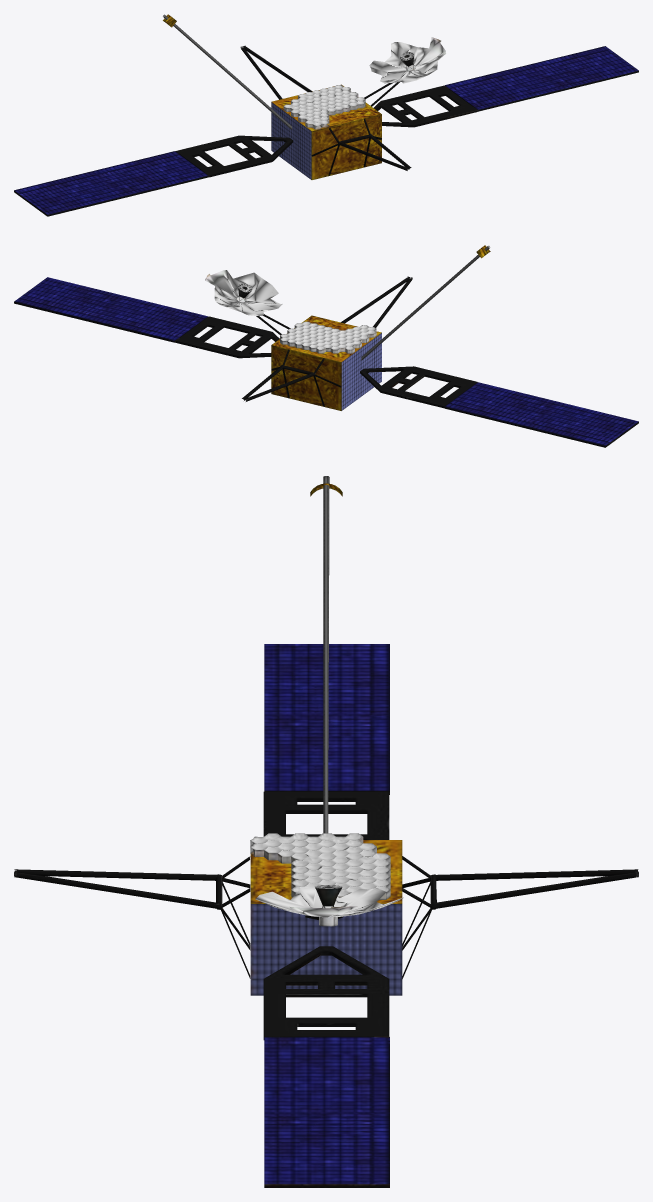
File: satellite_tdrs_lod.glb
3 views of the same model, one above another, from view 1: azimuth 30°, elevation 25°; view 2: azimuth 150°, elevation 25°; view 3: azimuth 270°, elevation 25° (orthographic). The views are drawn at different scales.
Parts seen in each view (by area): view 1: tdrs_no_an; view 2: tdrs_no_an; view 3: tdrs_no_an.
Part boxes in pixels (box(x1,y1,x2,y2)): tdrs_no_an: box(14, 14, 638, 216); tdrs_no_an: box(14, 245, 638, 447); tdrs_no_an: box(14, 476, 638, 1187).
Bounding box in the file's own units: 40.73 × 11.94 × 19.91.
8 materials, 8 textured.
